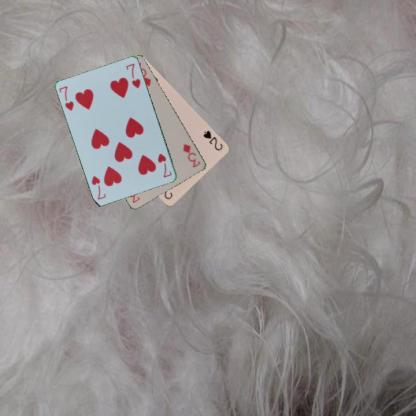2s: (201, 128, 224, 152)
3d: (180, 141, 202, 169)
7h: (57, 83, 75, 112), (156, 151, 173, 179)
